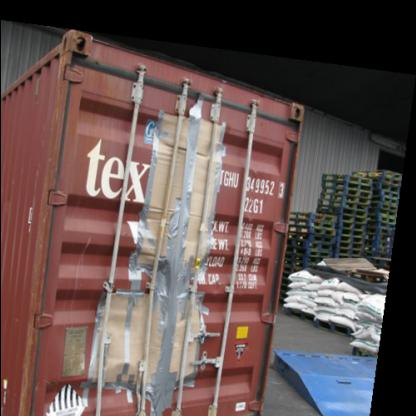Damage: (88, 116, 228, 408)
